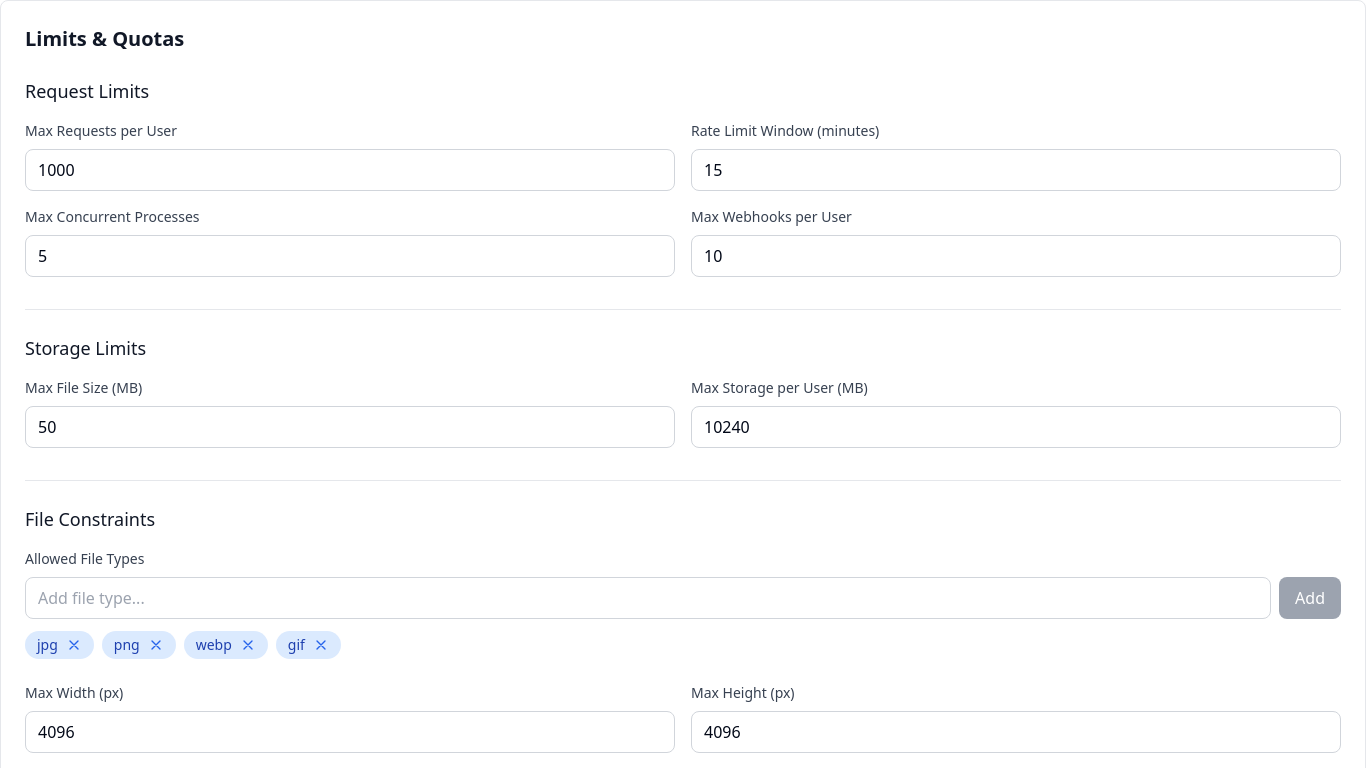
Test: LimitsSettings › allows adding new file type
Type "tiff" into the field with placeholder "Add file type...". click: (648, 598)
box: [25, 577, 1271, 619]
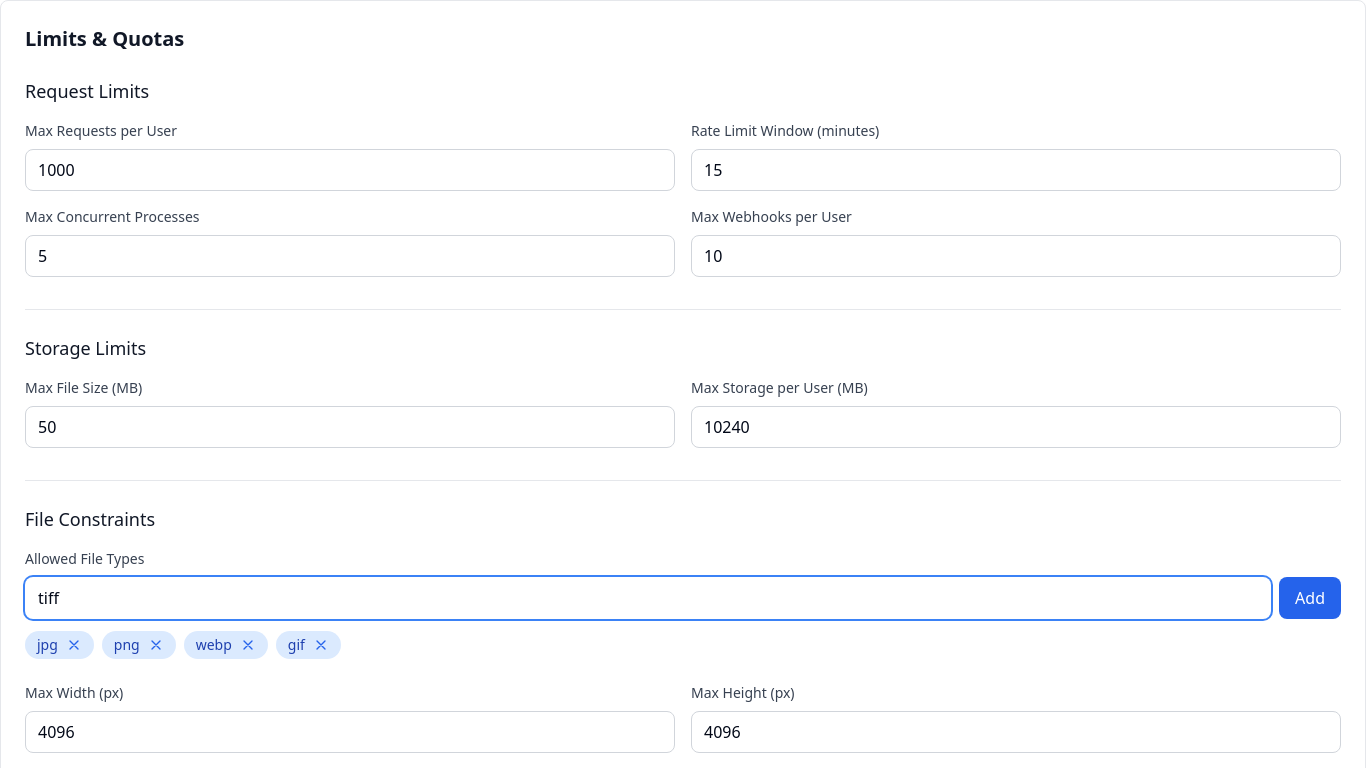
Click the button "Add". click: (1310, 598)
box: [1279, 577, 1341, 619]
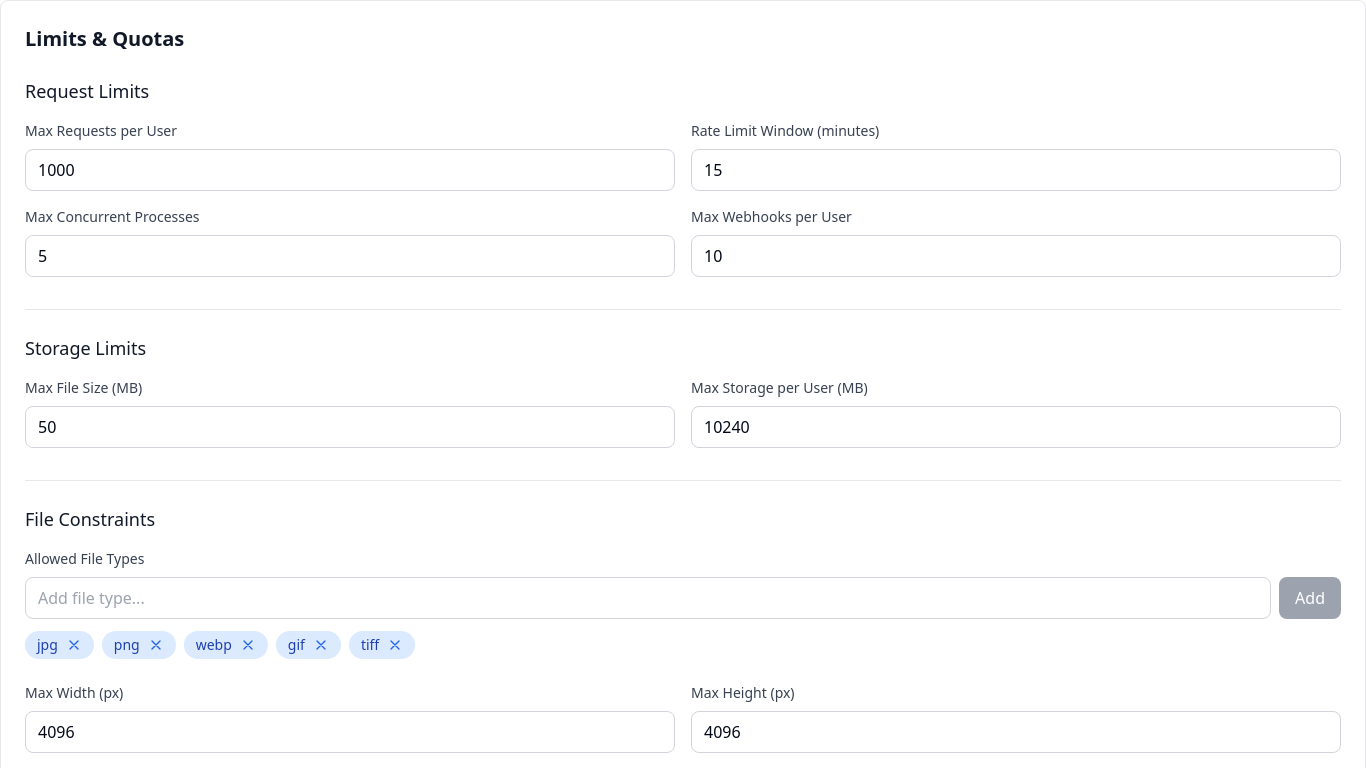
Expected: the text "tiff" is shown, [349, 631, 415, 659]
